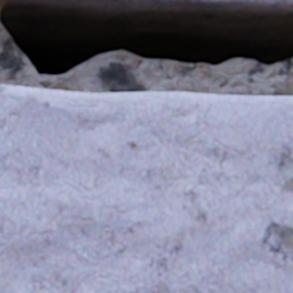brick: (0, 85, 292, 292), (41, 0, 292, 11)
crack: (0, 0, 292, 75)
